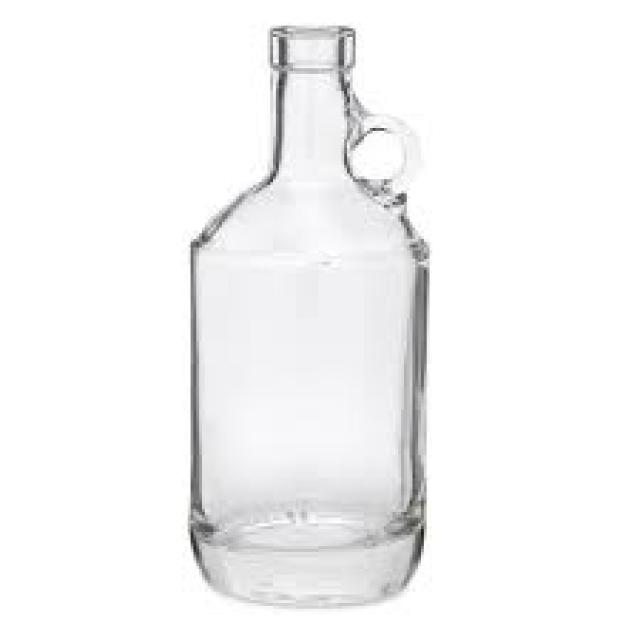Glass-Non-Biodegradable but Recyclable-: (190, 20, 433, 609)
